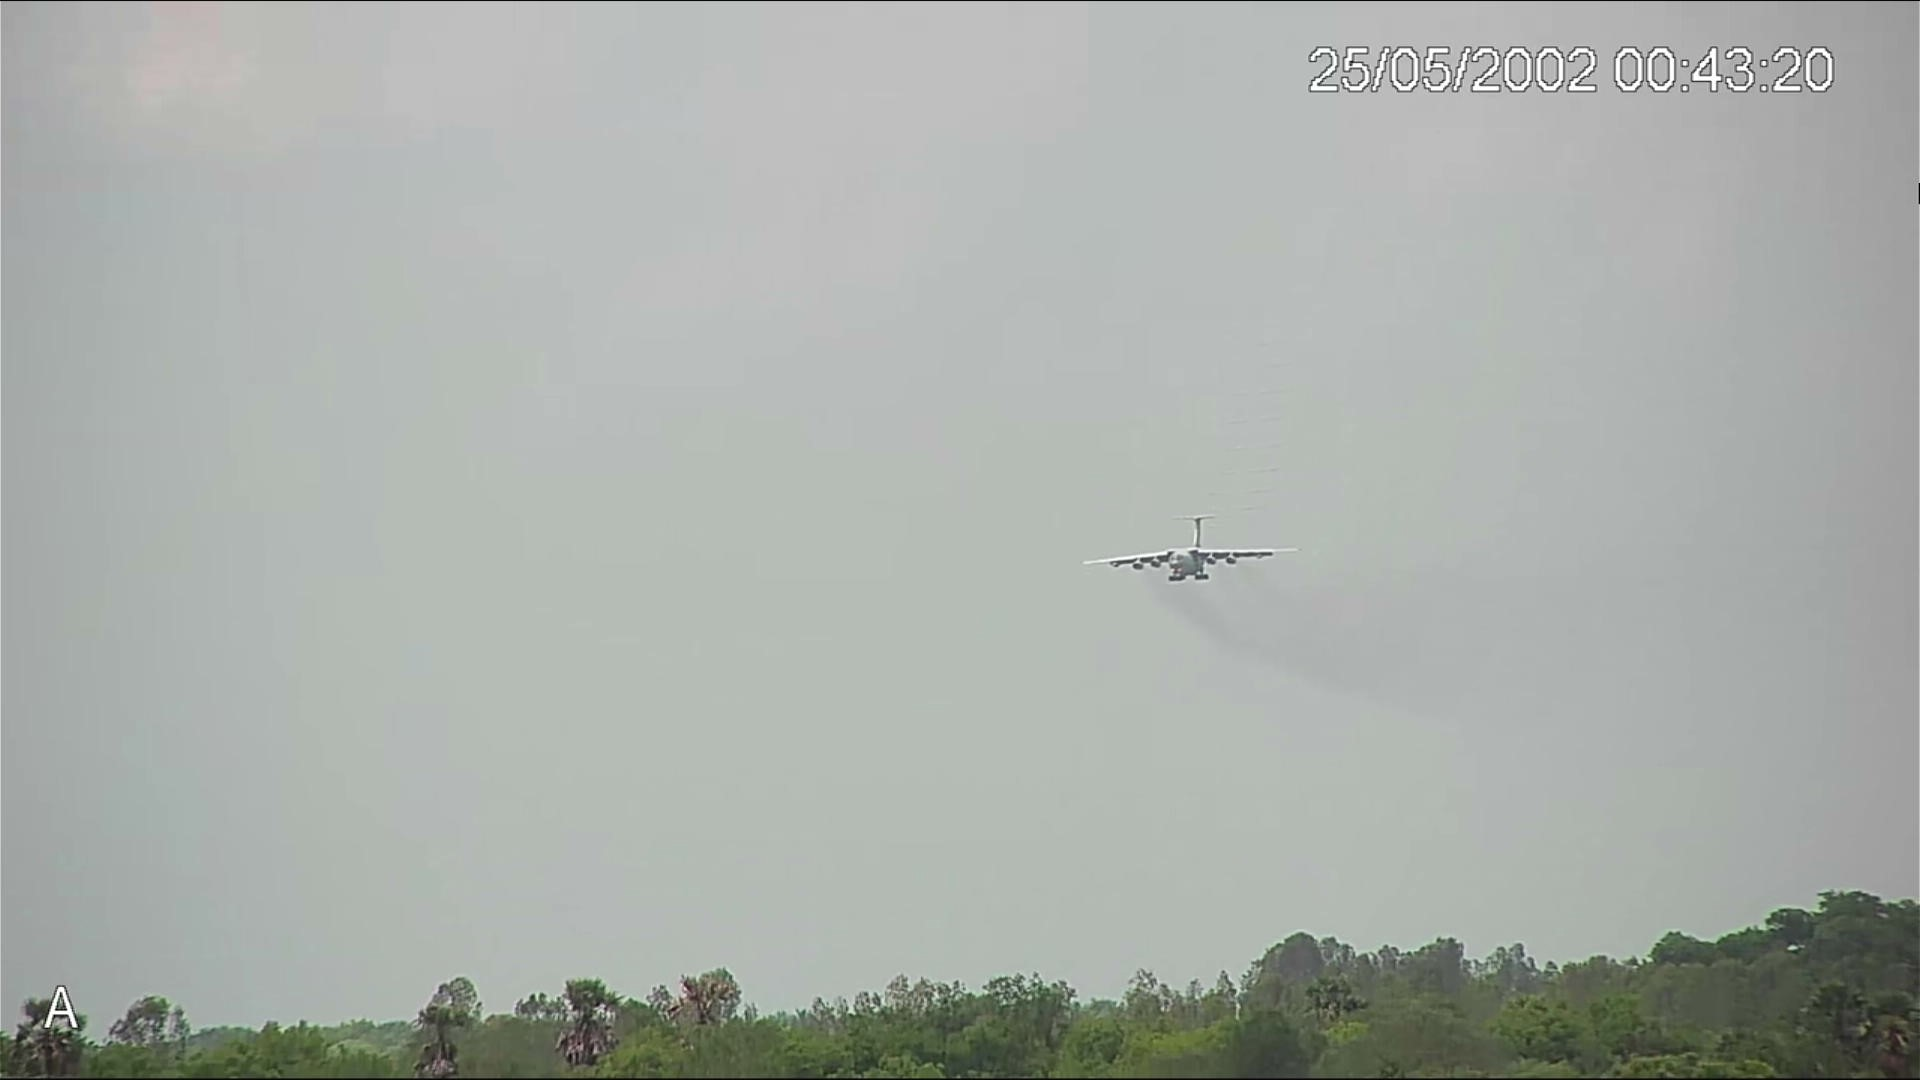SU_30: (1075, 512, 1304, 585)
